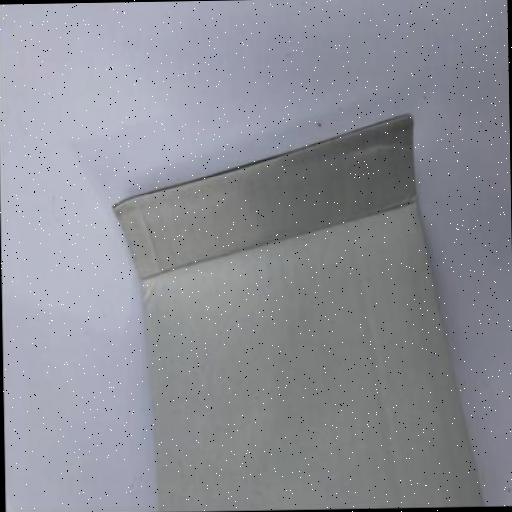cardboard: (107, 113, 482, 512)
